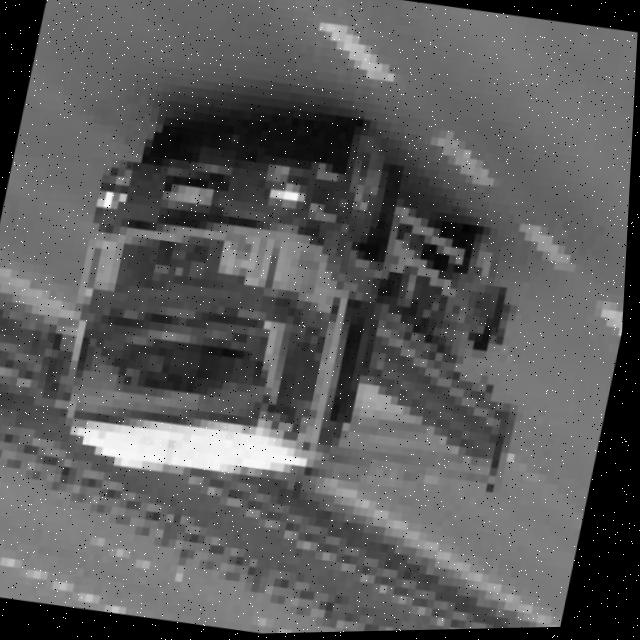truck: (22, 94, 427, 520)
